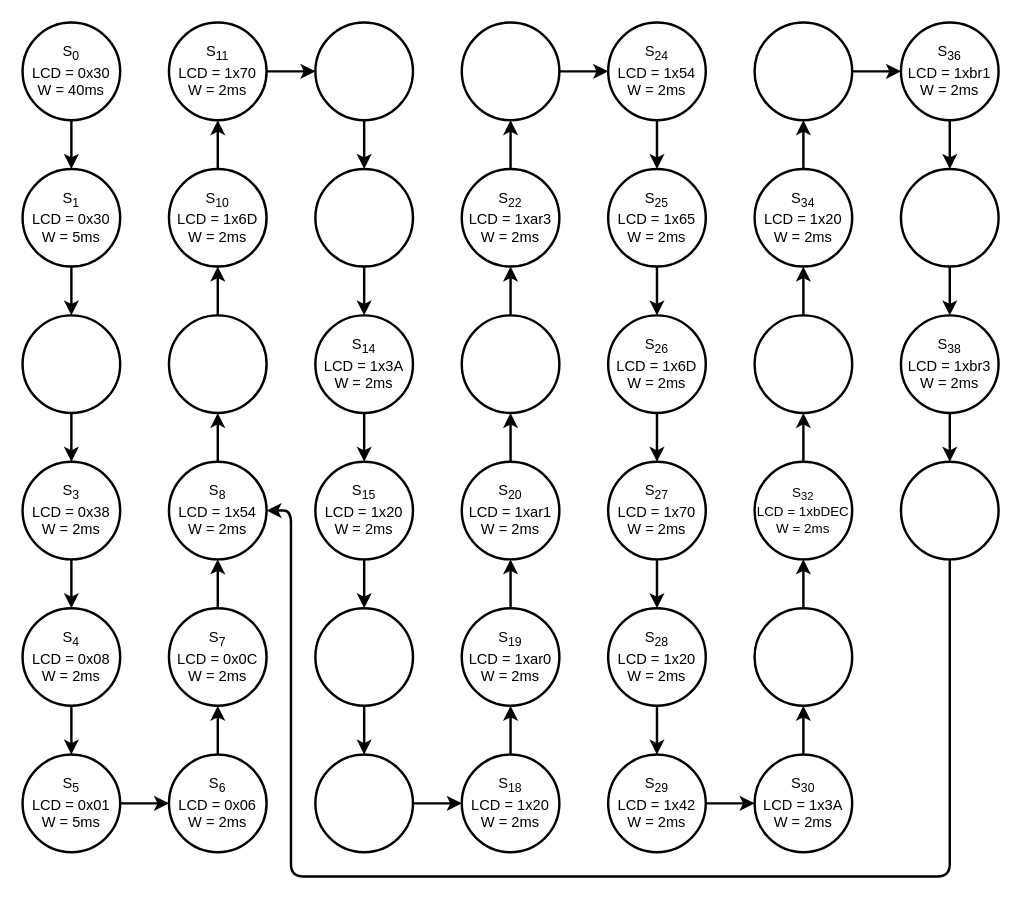
The diagram is 1020 pixels wide and 908 high, and some of its shapes have lost their labels. Each missing label, with the centre of its shape:
"S 12 LCD = 1x20 W = 2ms" belongs at point (364, 71).
"S 13 LCD = 1x41 W = 2ms" belongs at point (364, 217).
"S 16 LCD = 1xaDEC W = 2ms" belongs at point (364, 656).
"S 17 LCD = 1xaUNI W = 2ms" belongs at point (364, 803).
"S 2 LCD = 0x30 W = 100us" belongs at point (71, 364).
"S 21 LCD = 1xar2 W = 2ms" belongs at point (510, 364).
"S 23 LCD = 0xC0 W = 2ms" belongs at point (510, 71).
"S 31 LCD = 1x20 W = 2ms" belongs at point (803, 656).
"S 33 LCD = 1xbUNI W = 2ms" belongs at point (803, 364).
"S 35 LCD = 1xbr0 W = 2ms" belongs at point (803, 71).
"S 37 LCD = 1xbr2 W = 2ms" belongs at point (949, 217).
"S 39 LCD = 0x80 W = 2ms" belongs at point (949, 510).
"S 9 LCD = 1x65 W = 2ms" belongs at point (217, 364).
